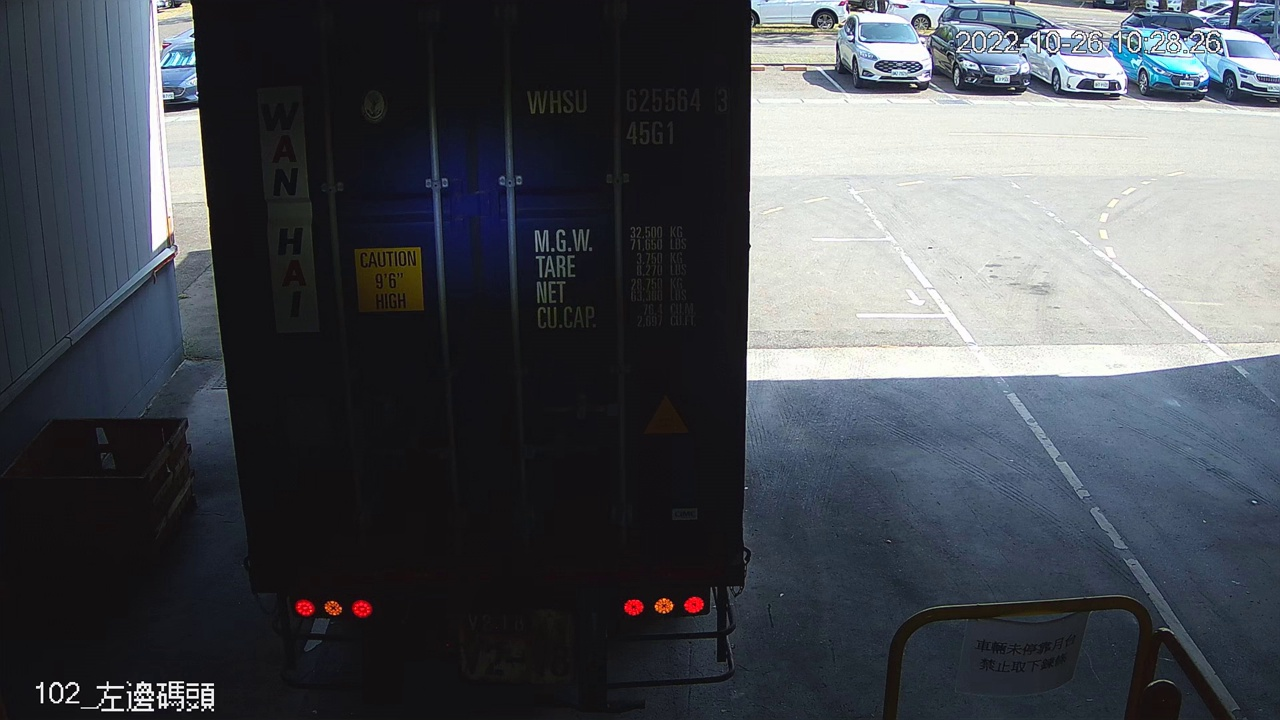container: (517, 79, 736, 156)
